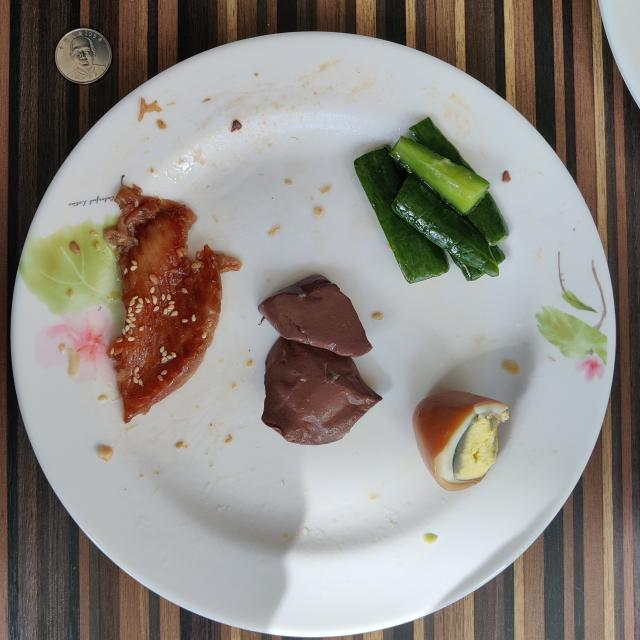Kabayaki sea bream fillet: (105, 185, 241, 422)
coin: (55, 29, 111, 84)
cucumber: (355, 118, 509, 282)
pig blood curd: (259, 275, 381, 445)
soy egg: (412, 391, 509, 491)
